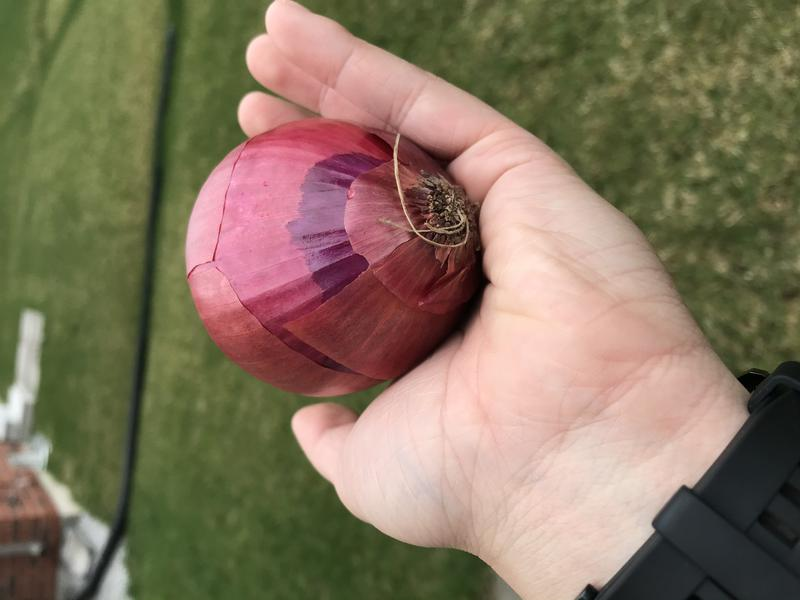purple_onion: (174, 111, 494, 406)
